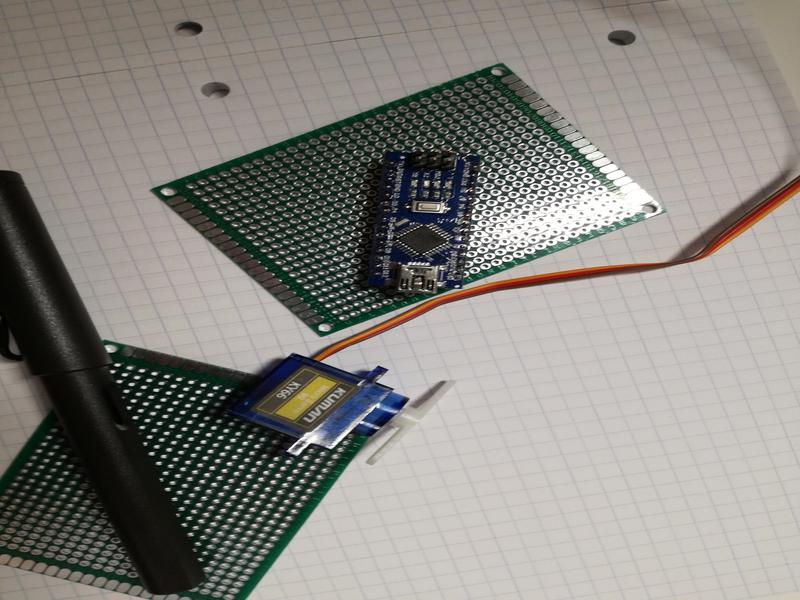Arduino_Nano: (363, 147, 485, 297)
